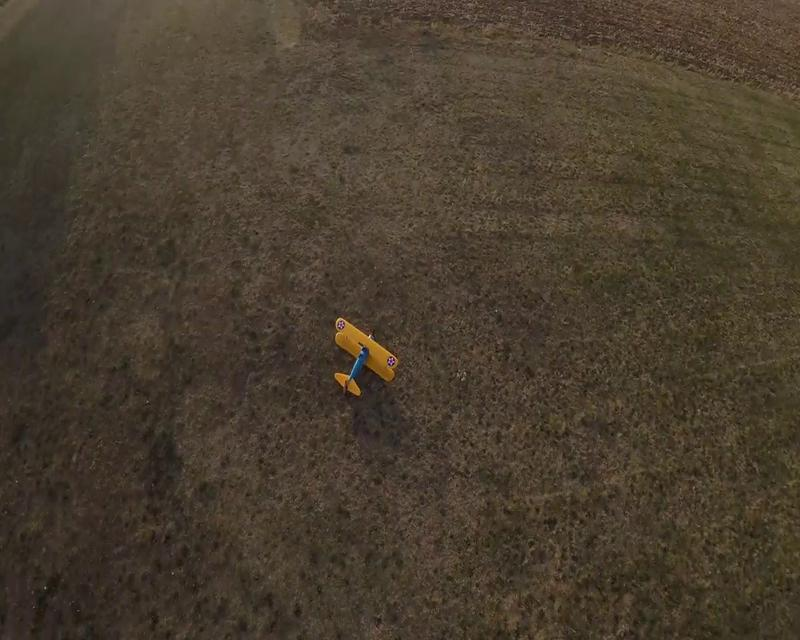UAV: (332, 317, 398, 397)
